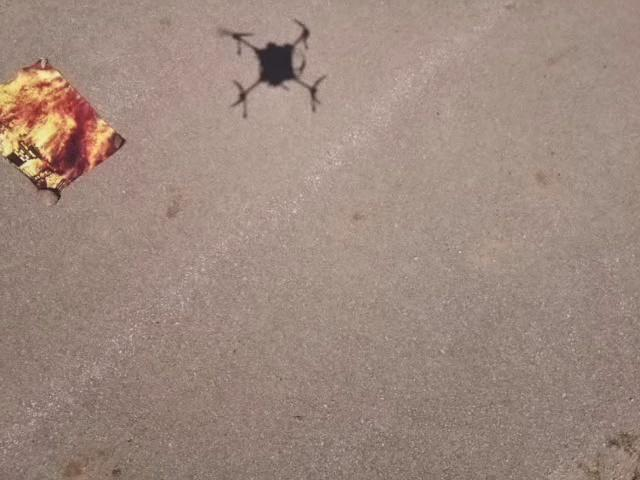fire-poster: (0, 55, 127, 205)
